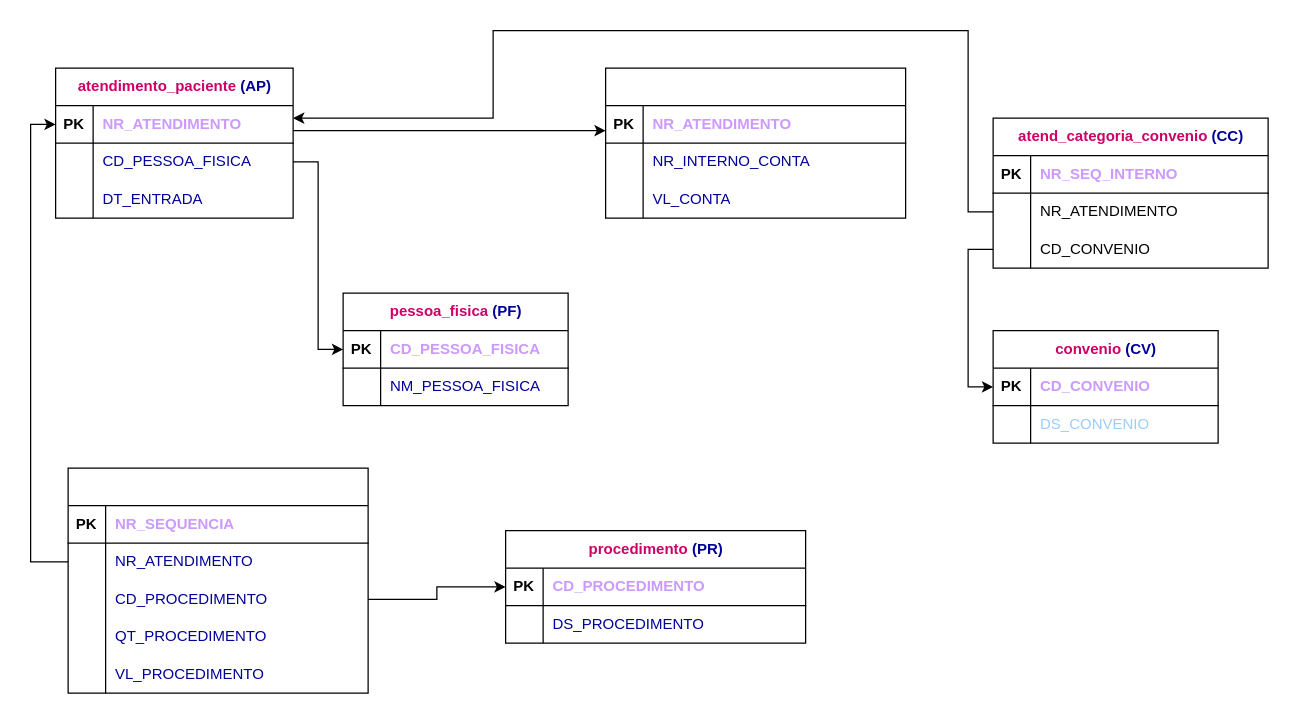
This 1290x715 diagram has some shape labels left out. Here are the shapes that lost their labels. From the top down, the box of each, then its label:
(604, 67, 906, 218): conta_paciente (CP)
(67, 467, 368, 693): procedimento_paciente (PP)
